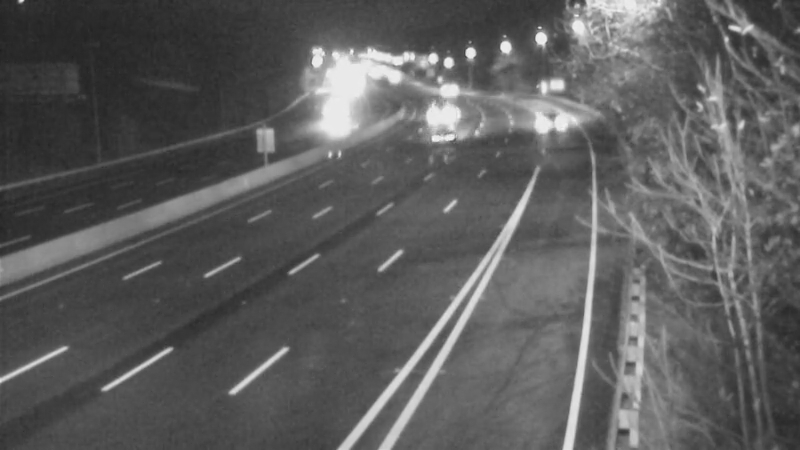vehicle: (425, 61, 475, 111), (518, 96, 568, 146), (407, 88, 457, 138), (421, 109, 471, 159), (313, 92, 363, 142)
